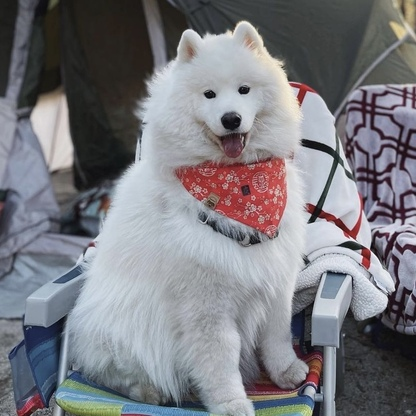samoyed: (58, 14, 313, 416)
